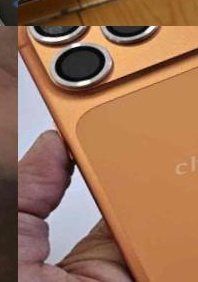scratch: (27, 26, 102, 53)
